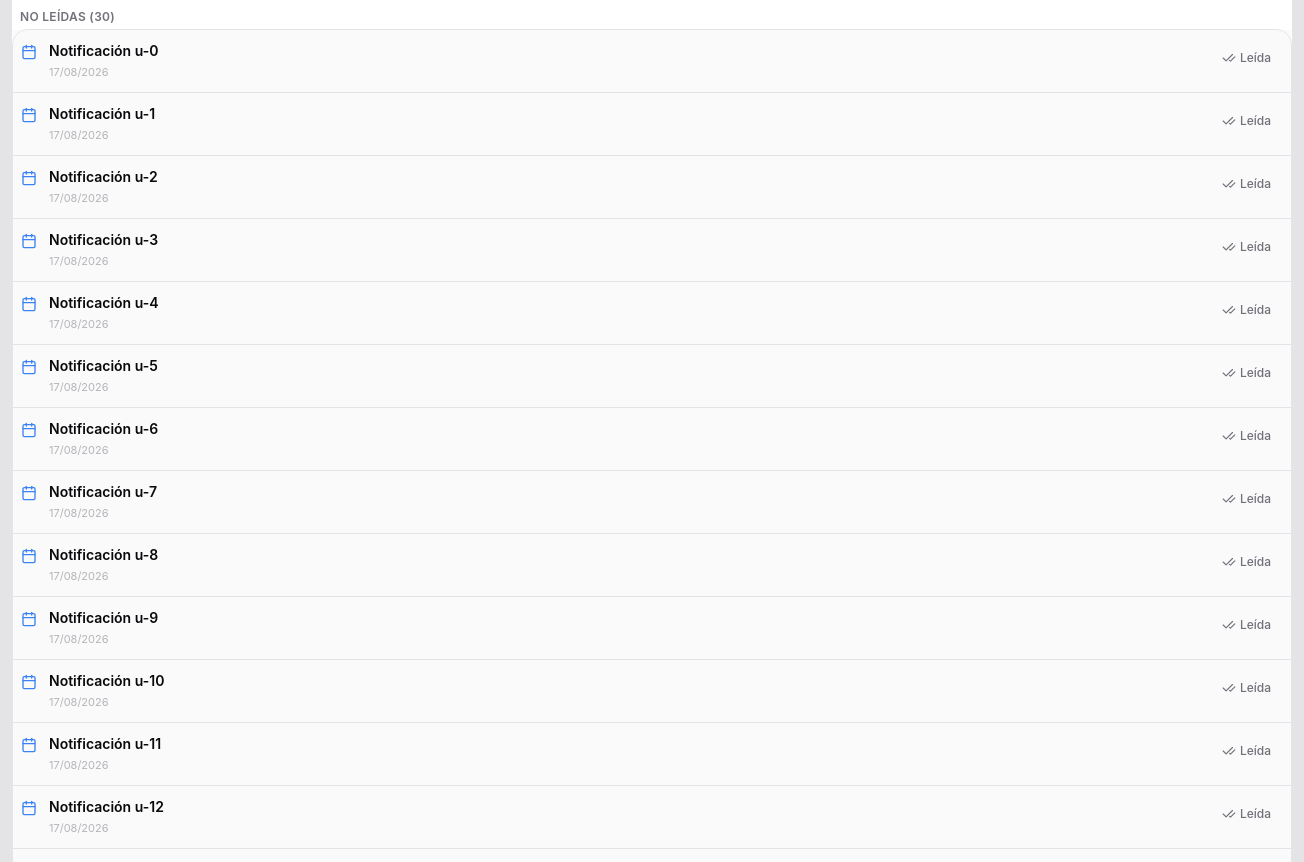
NotificationsList › marks a single notification as read optimistically
What coordinates should you click on to do the following:
click the button "Leída" in the row of "Notificación u-0"
I would click on:
 (1246, 58)
Its box is left=1210, top=42, right=1283, bottom=74.
(page scrolled)
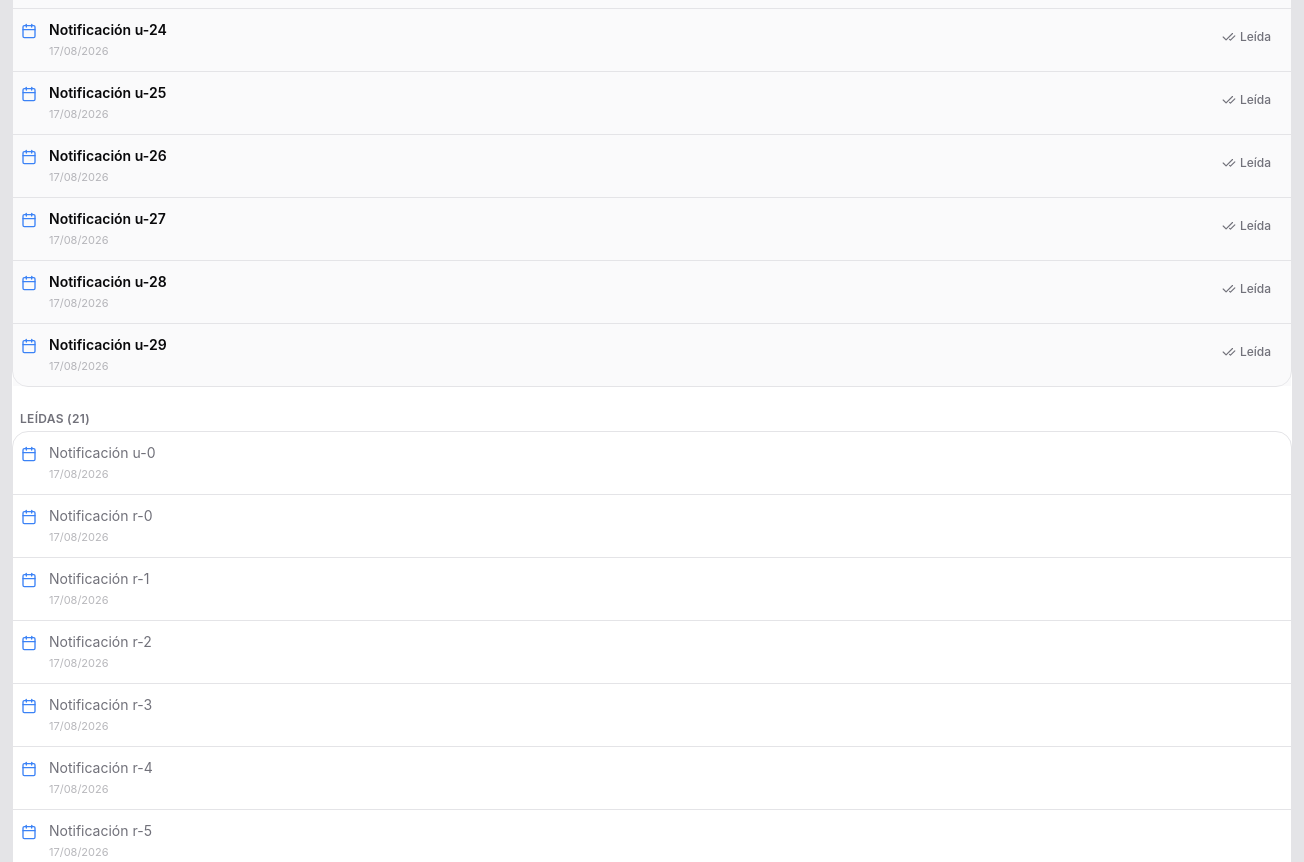
Now the heading "Leídas (21)" is shown, box left=20, top=411, right=90, bottom=426
